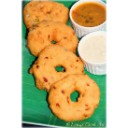vada: (35, 46, 86, 90), (50, 74, 99, 119), (30, 22, 77, 61), (25, 1, 68, 31)
